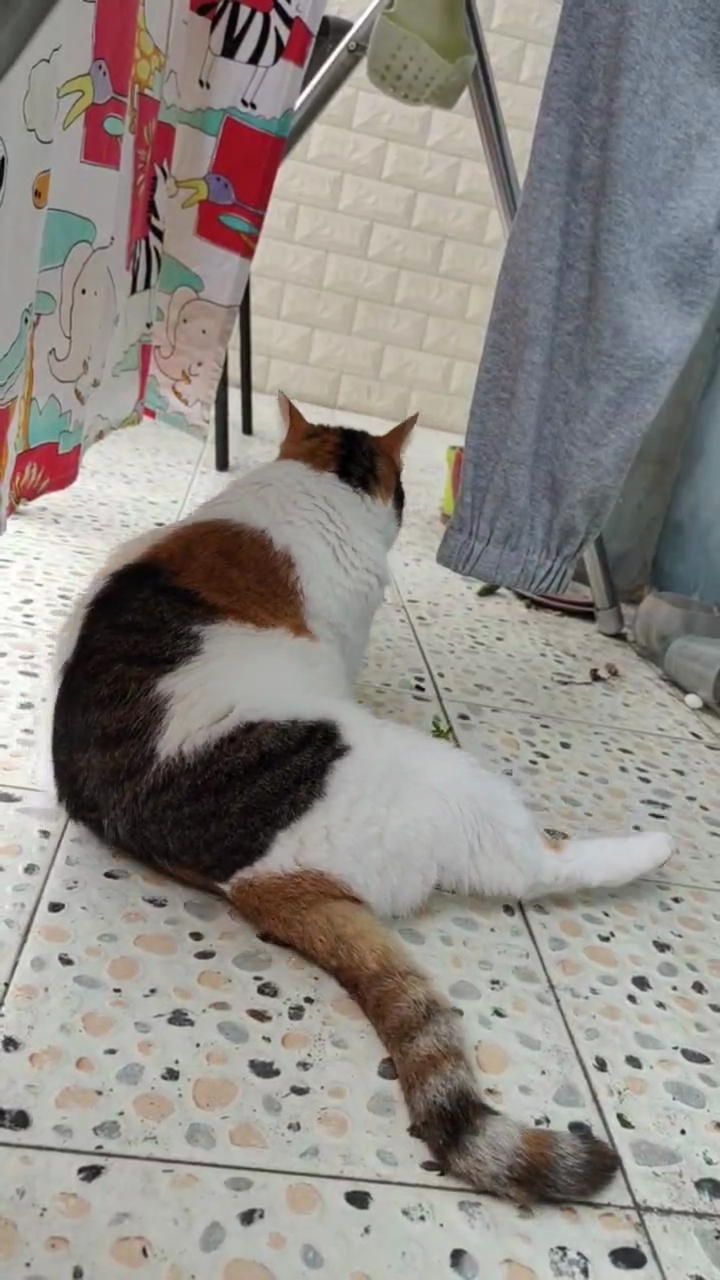猫: (35, 342, 676, 1262)
